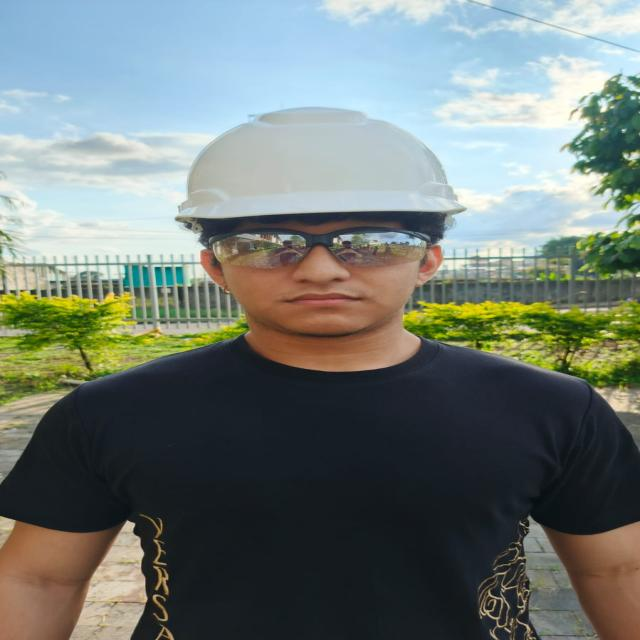helmet: (175, 107, 465, 222)
protective_glasses: (208, 227, 427, 269)
